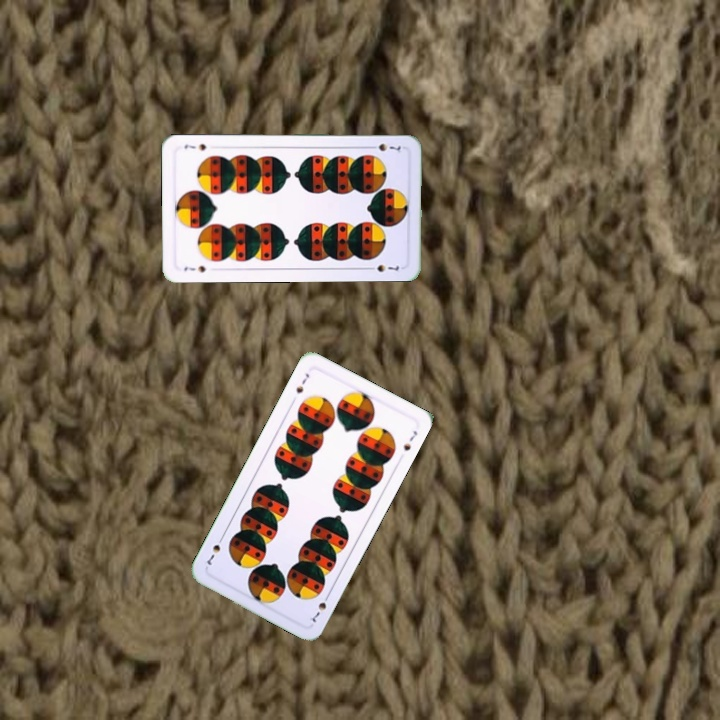S7: (305, 589, 333, 625), (365, 139, 403, 155), (292, 369, 312, 396), (180, 261, 208, 275)
